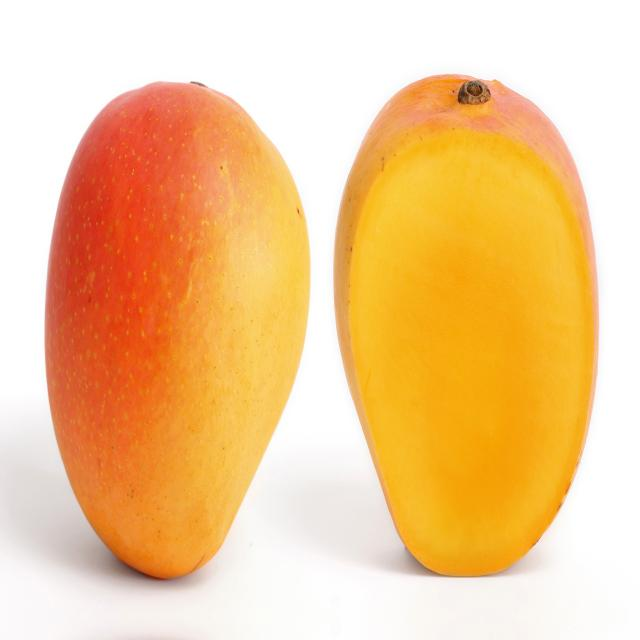mango: (28, 55, 319, 616), (297, 65, 605, 583)
